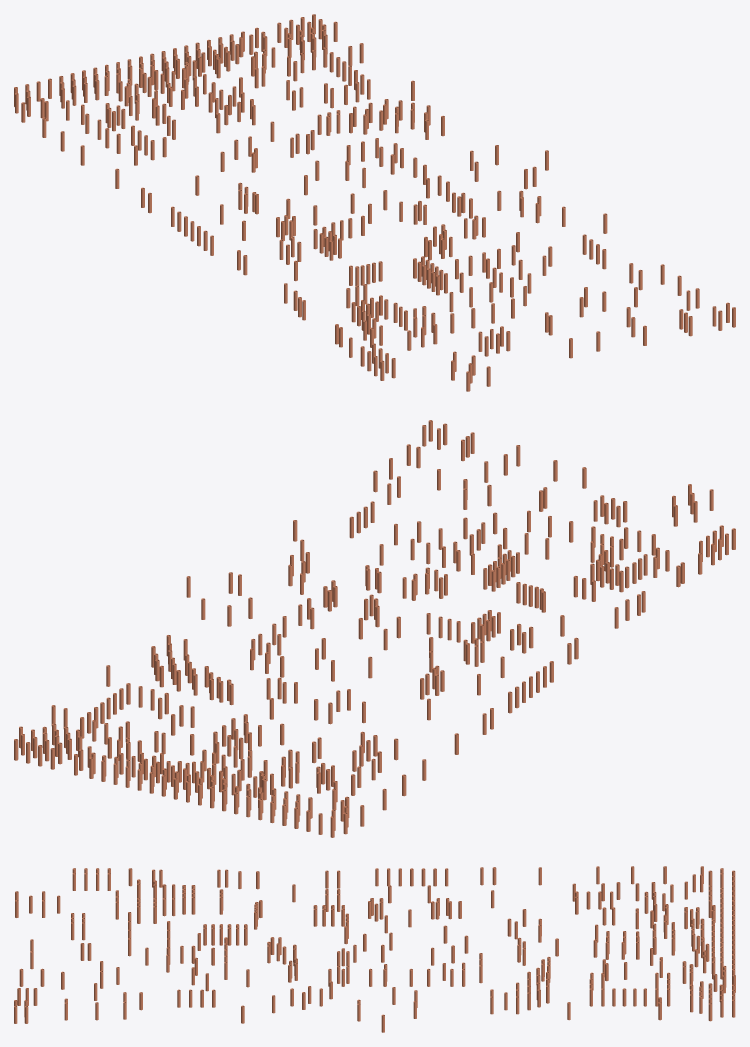
The model's file is board_via.obj.
The picture shows the model from 3 angles, top to bottom: view 1: azimuth 30°, elevation 25°; view 2: azimuth 150°, elevation 25°; view 3: azimuth 270°, elevation 25°; orthographic projection. The views are drawn at different scales.
Visible parts, largest first — view 1: =>[0:1:1:27]; view 2: =>[0:1:1:27]; view 3: =>[0:1:1:27].
Boxes of the visible parts, x1,y1,x2,y2 form: =>[0:1:1:27]: (14, 14, 735, 391); =>[0:1:1:27]: (14, 420, 735, 837); =>[0:1:1:27]: (14, 866, 735, 1032).
Size of the model in its own units: 0.3055 by 0.0158 by 0.6215.
